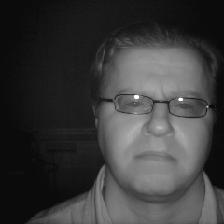sad: (89, 23, 220, 204)
